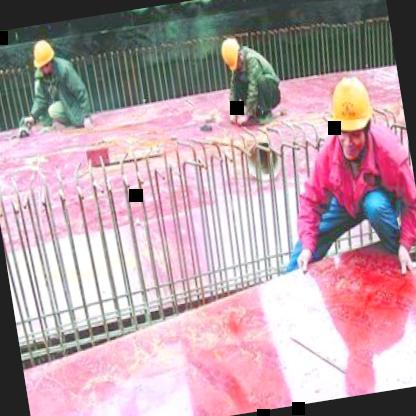helmet: (320, 69, 382, 163), (28, 36, 59, 82), (216, 33, 245, 76)
